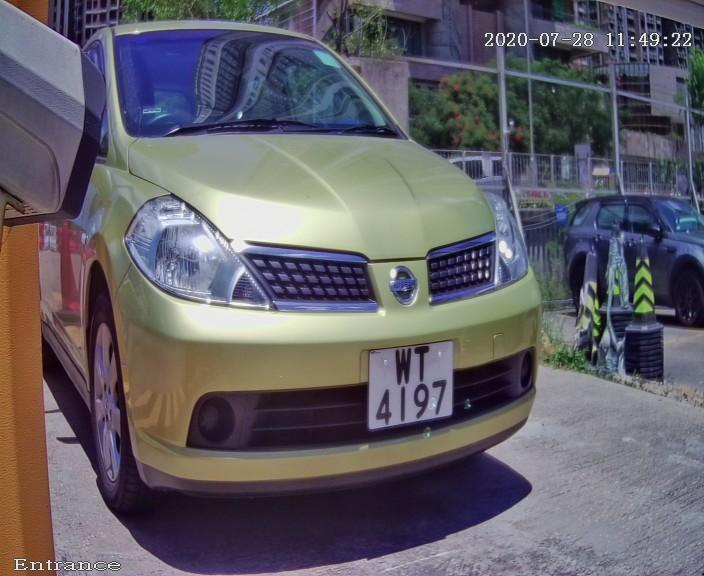privatecar: (45, 11, 610, 566)
